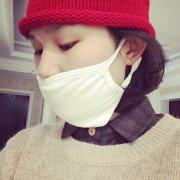WRONG: (32, 24, 138, 130)
